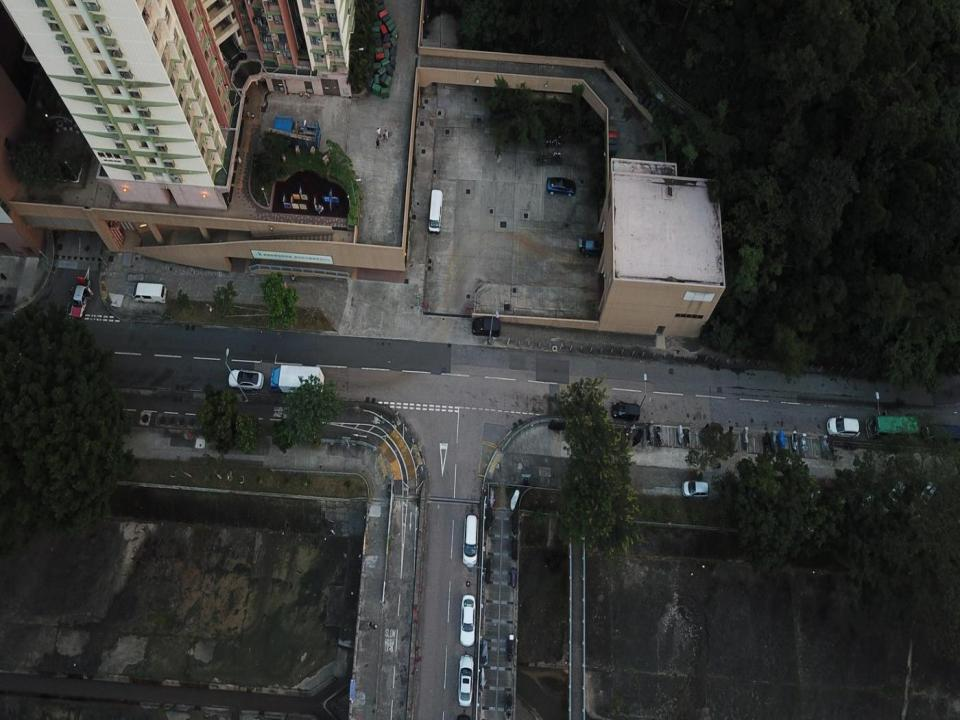car: (71, 276, 93, 320), (462, 514, 479, 565), (826, 414, 860, 439), (458, 654, 474, 706), (460, 595, 476, 647), (228, 369, 264, 390), (579, 236, 608, 258), (546, 176, 575, 197), (472, 317, 500, 337), (611, 403, 640, 420), (682, 481, 709, 497), (920, 481, 936, 506)
truck: (270, 364, 324, 395), (866, 414, 920, 439), (920, 425, 960, 443)
van: (879, 481, 905, 514), (132, 282, 168, 304), (429, 189, 442, 235)
